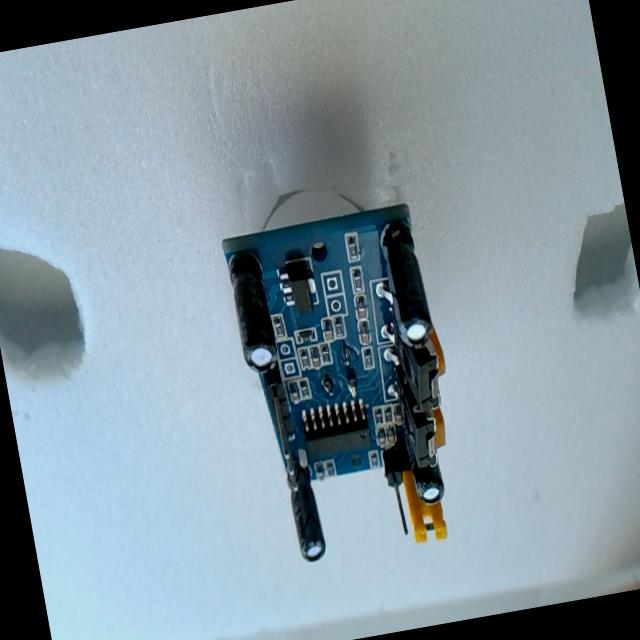Electrolytic capacitor: (377, 222, 436, 351), (226, 250, 280, 374), (398, 402, 447, 508), (283, 456, 329, 566)
IC: (302, 400, 374, 460)
pinheader: (257, 369, 309, 497)
